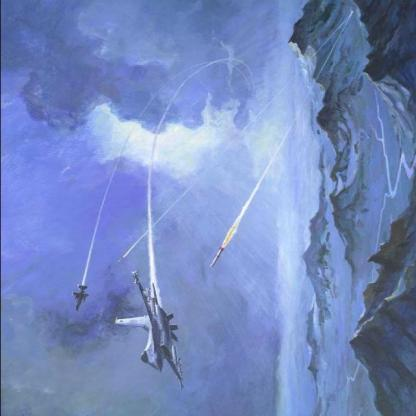MIL_TBM: (209, 246, 223, 267), (132, 271, 138, 285), (145, 287, 150, 301), (115, 256, 124, 263)
